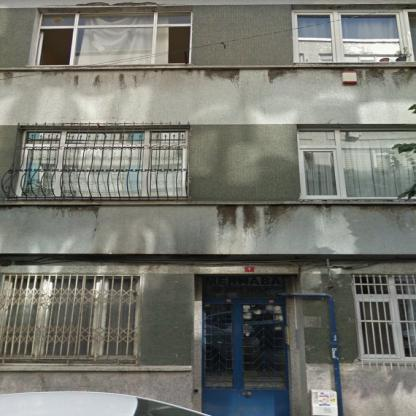door: (204, 302, 288, 415)
window: (1, 274, 141, 359), (16, 131, 185, 197), (35, 11, 190, 65), (298, 129, 416, 198), (297, 12, 416, 62), (354, 275, 416, 359)
